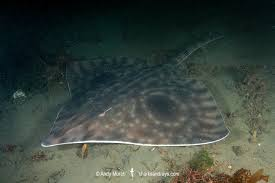Big Skate: (19, 4, 250, 183)
